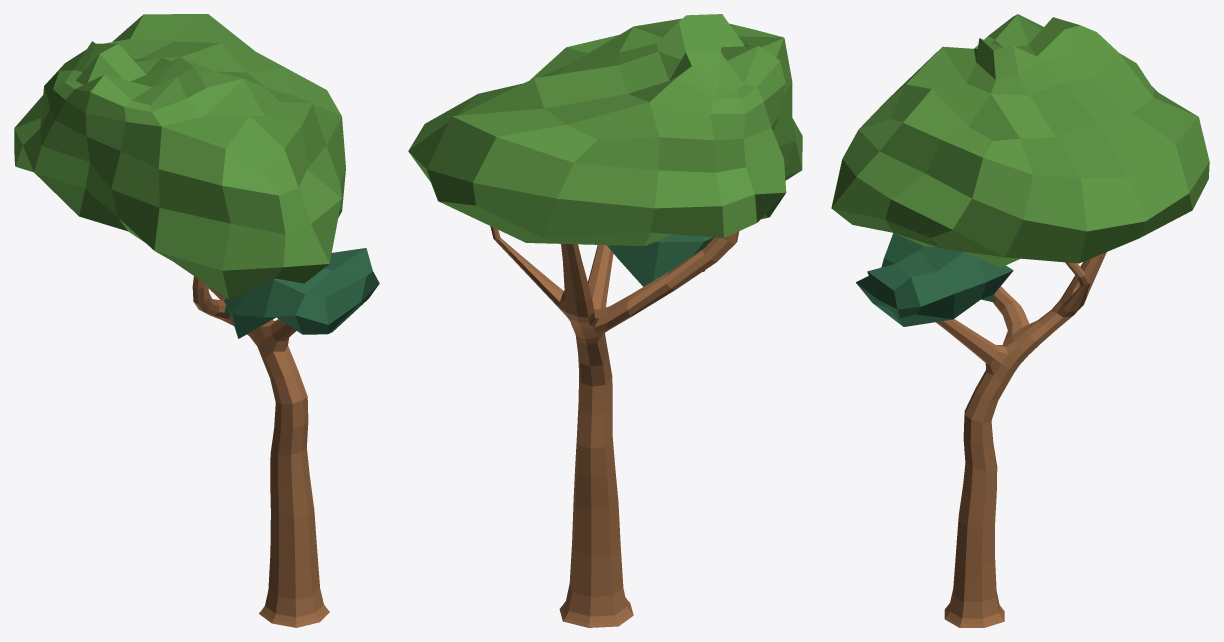
Rendered from CommonTree_4.glb.
3 views of the same model, side by side, from view 1: azimuth 30°, elevation 25°; view 2: azimuth 150°, elevation 25°; view 3: azimuth 270°, elevation 25° (orthographic). The views are drawn at different scales.
Parts seen in each view (by area): view 1: CommonTree_4_Cube.001; view 2: CommonTree_4_Cube.001; view 3: CommonTree_4_Cube.001.
Part boxes in pixels (bbox=[...]): CommonTree_4_Cube.001: bbox=[14, 14, 379, 627]; CommonTree_4_Cube.001: bbox=[408, 14, 802, 627]; CommonTree_4_Cube.001: bbox=[831, 14, 1209, 627].
Bounding box in the file's own units: 1.58 × 2.78 × 1.8.
